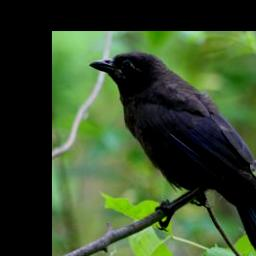Crow: (89, 49, 256, 256)
